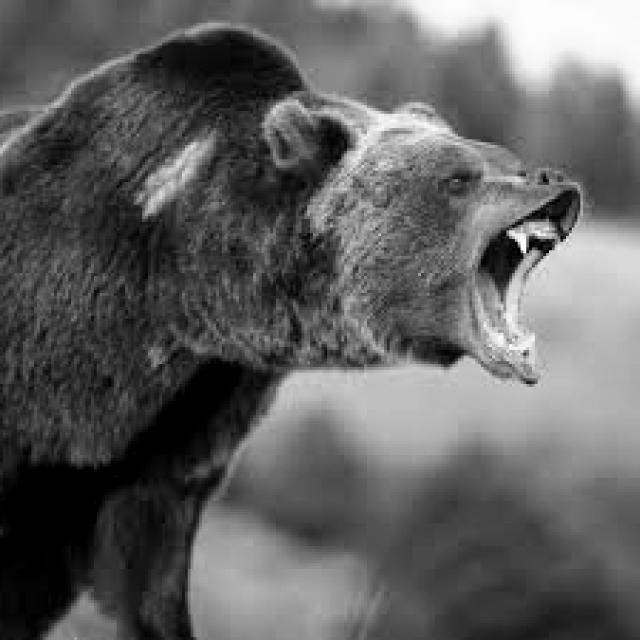bear: (11, 4, 614, 556)
